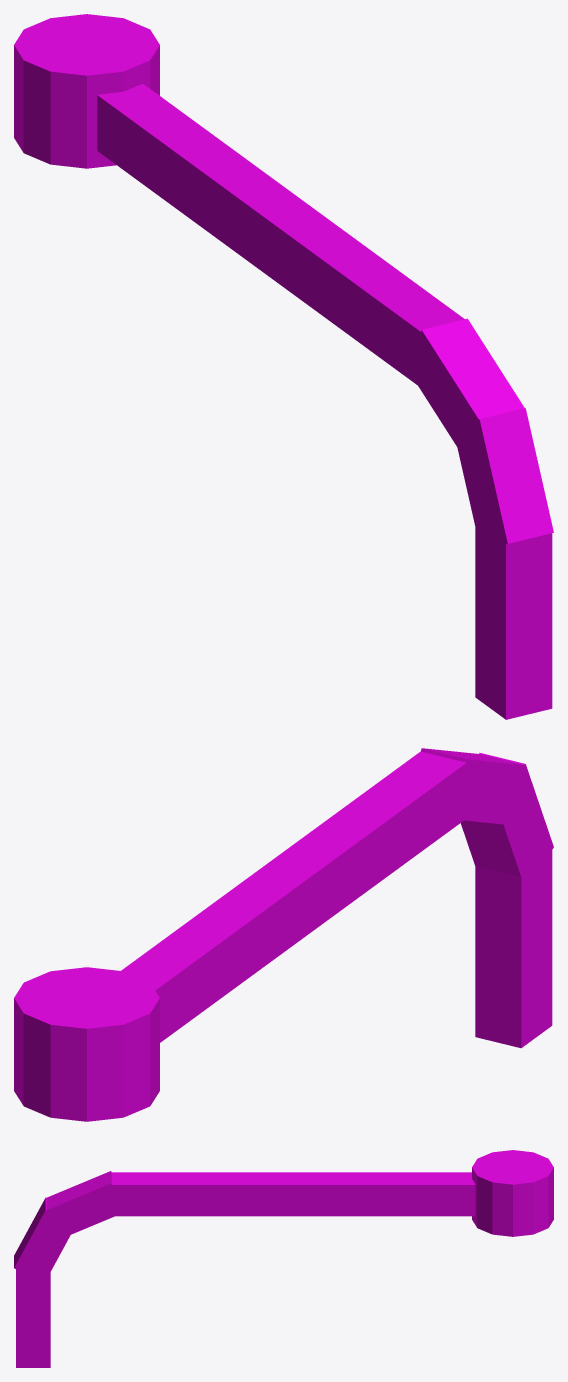
The model's file is SM_FlatPanelBoomPart01Collider.fbx.
3 renders of one model, top to bottom at view 1: azimuth 30°, elevation 25°; view 2: azimuth 150°, elevation 25°; view 3: azimuth 270°, elevation 25°, orthographic. The views are drawn at different scales.
Visible parts, largest first — view 1: FlatPanelBoomPart01Collision; view 2: FlatPanelBoomPart01Collision; view 3: FlatPanelBoomPart01Collision.
Boxes of the visible parts, x1,y1,x2,y2 form: FlatPanelBoomPart01Collision: (14, 14, 553, 719); FlatPanelBoomPart01Collision: (14, 748, 553, 1121); FlatPanelBoomPart01Collision: (14, 1150, 553, 1367).
Size of the model in its own units: 12.92 by 33.76 by 85.03.
